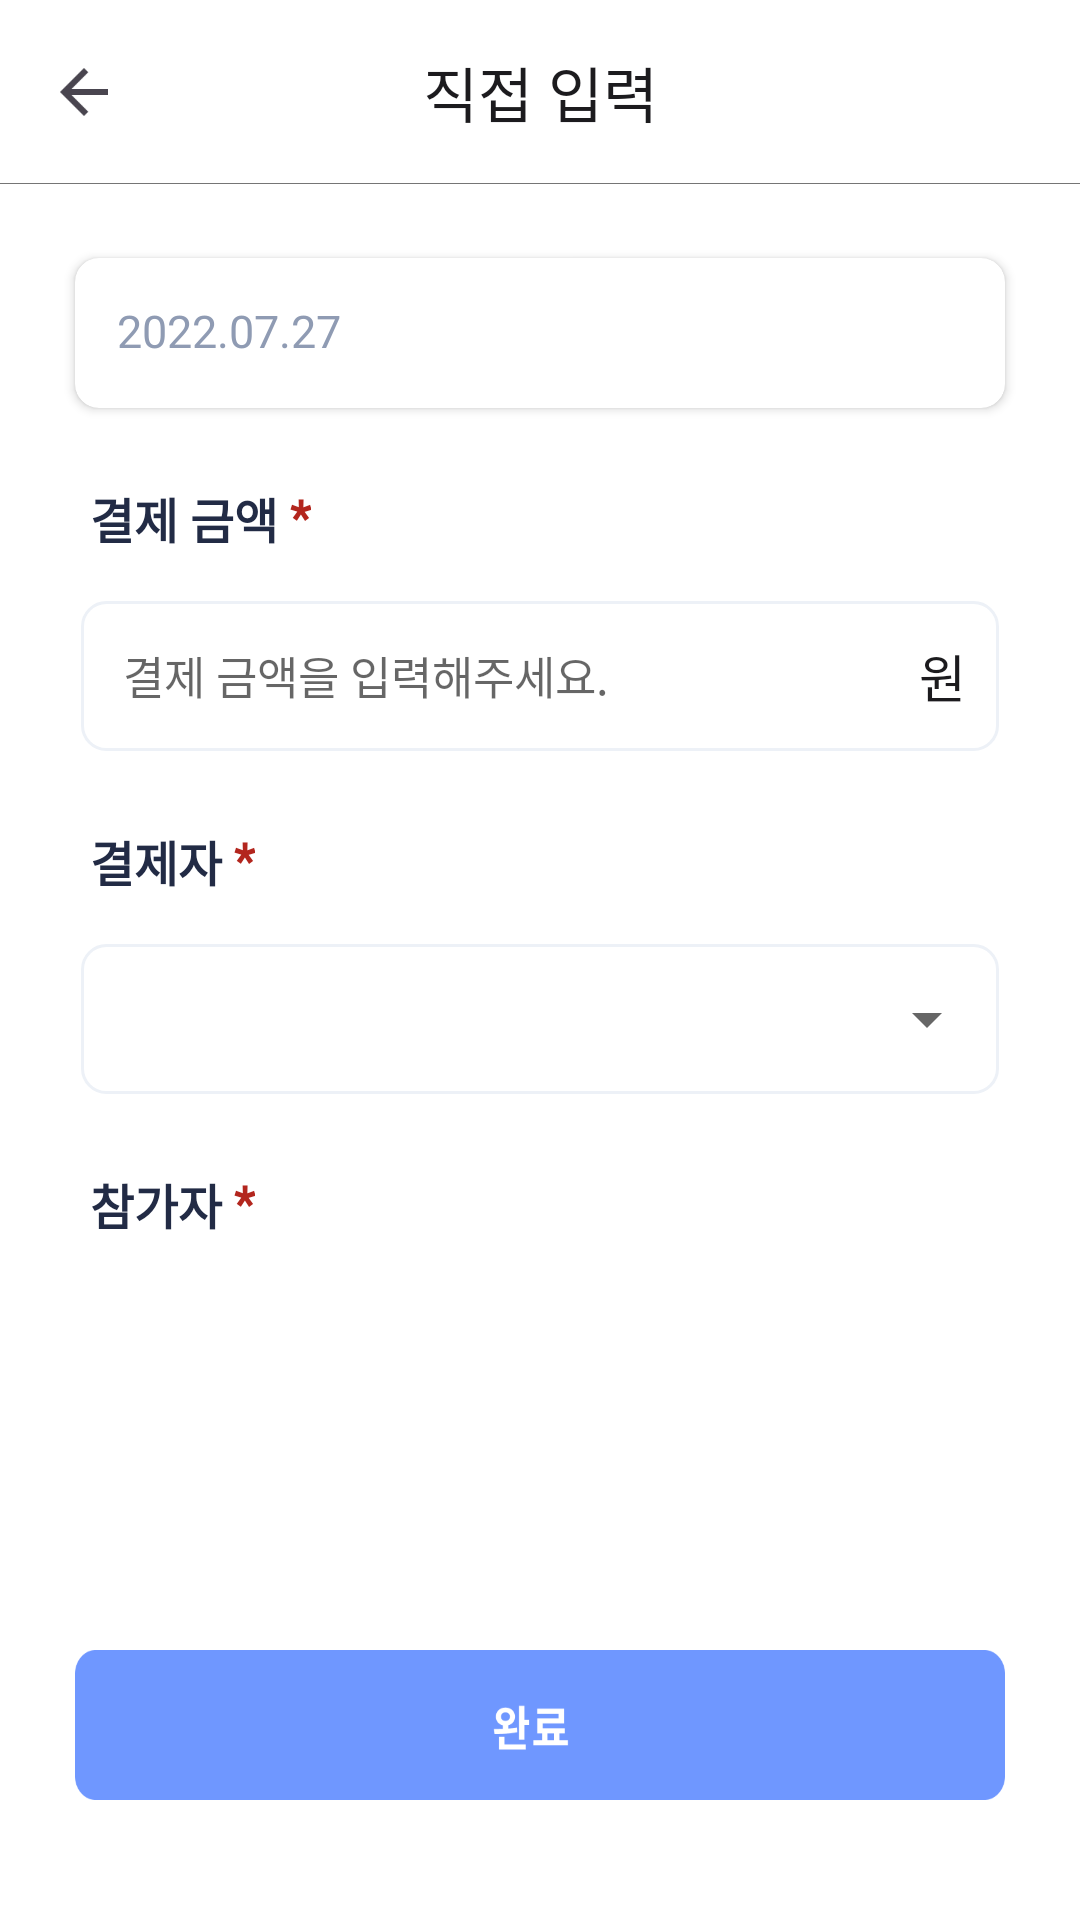

Point at icon controls on the screen. Image size 1080px×1920px, points as point (x, y).
back arrow: point (84, 92)
